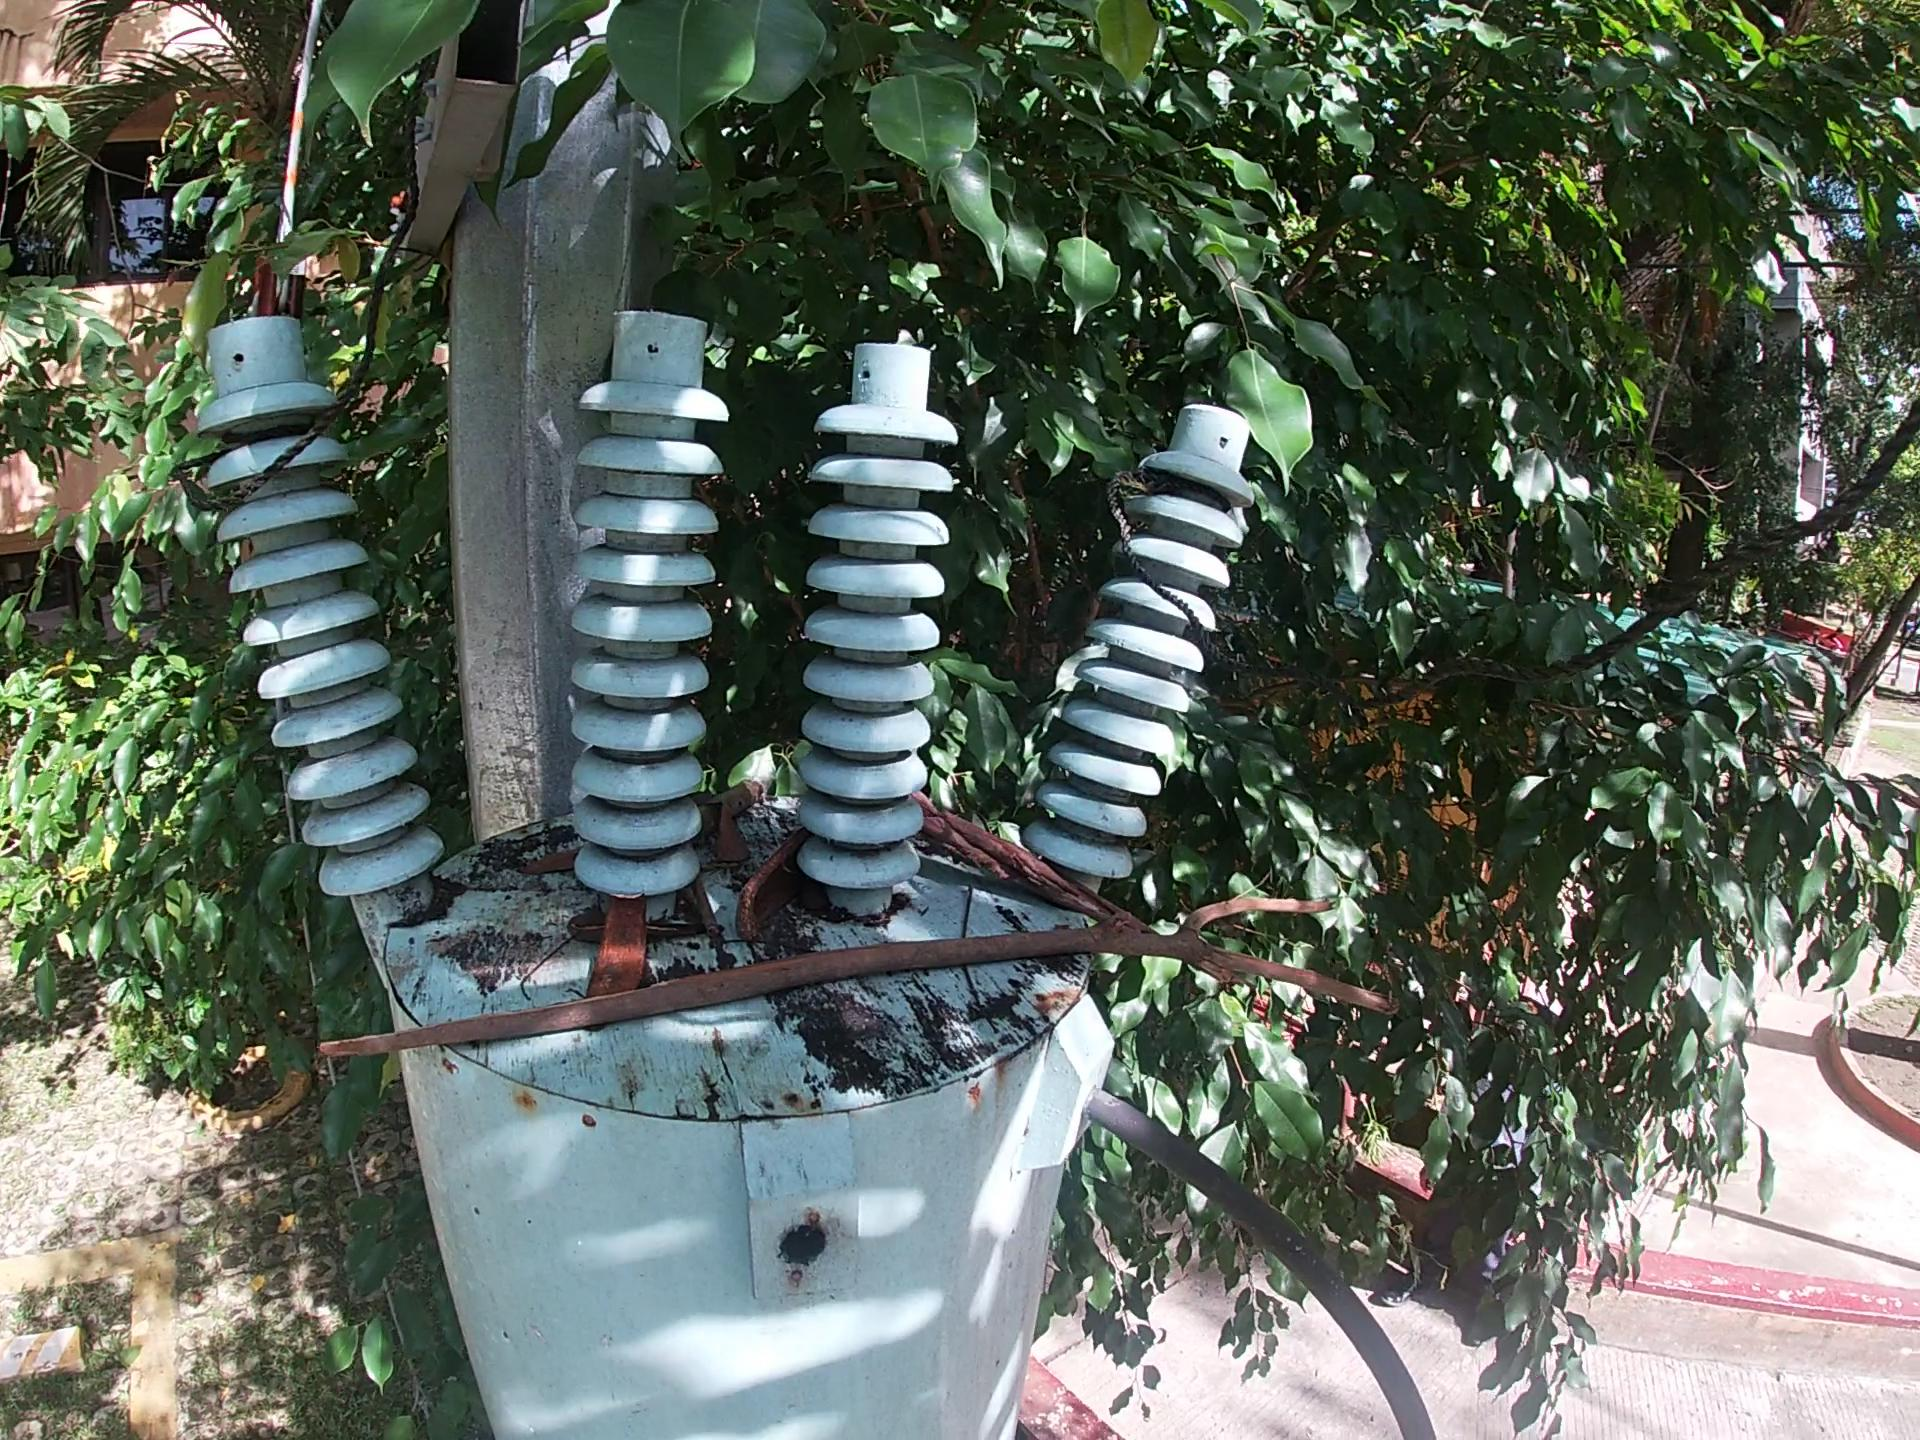leaf: (708, 797, 756, 873), (565, 888, 609, 956), (513, 847, 581, 880)
mahogany fruit: (727, 824, 822, 951), (574, 886, 661, 1004)
tree branch: (305, 889, 1404, 1066), (912, 791, 1154, 930), (688, 777, 773, 843), (691, 871, 727, 944)
